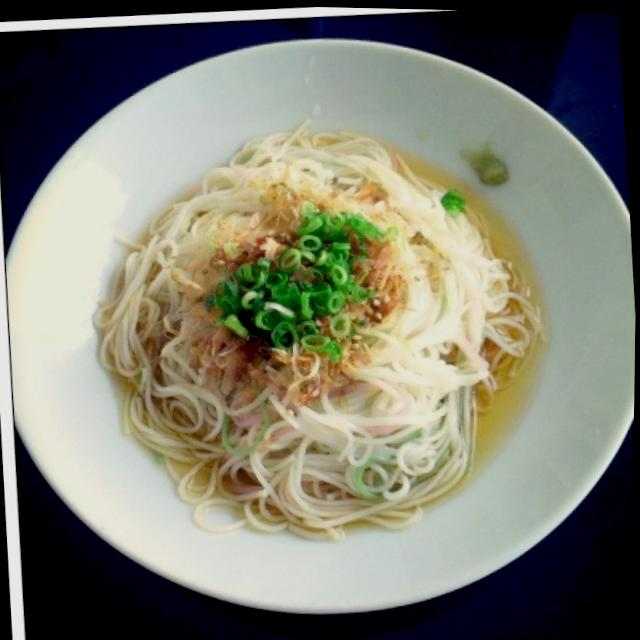面条主食: (0, 25, 640, 640)
